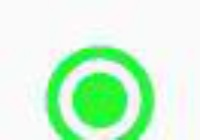RadioButton: (1, 1, 199, 139)
